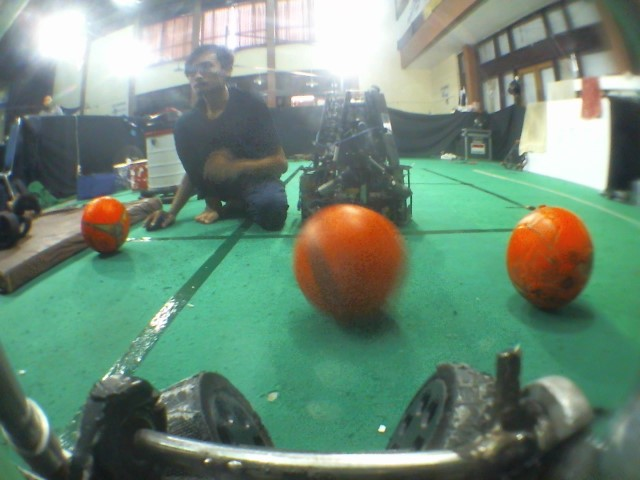ball: (285, 199, 413, 333), (503, 203, 599, 317), (75, 193, 132, 258)
